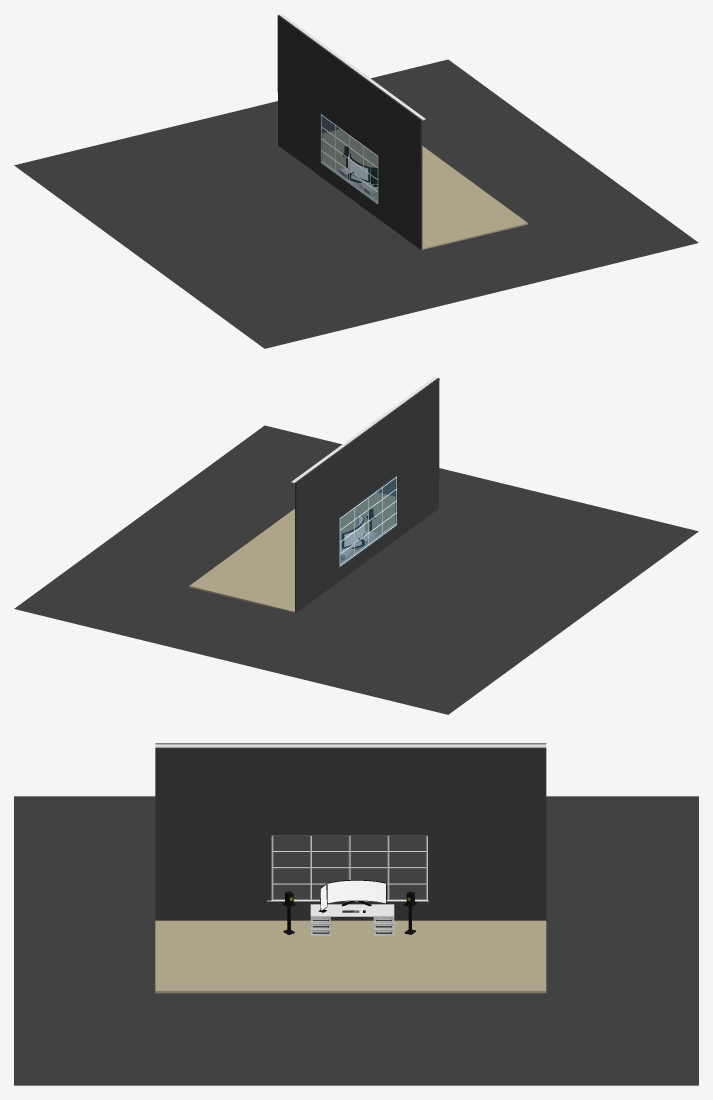
File: deskScene.glb
The picture shows the model from 3 angles, top to bottom: view 1: azimuth 30°, elevation 25°; view 2: azimuth 150°, elevation 25°; view 3: azimuth 270°, elevation 25°; orthographic projection. The views are drawn at different scales.
Visible parts, largest first — view 1: Plane.008, Plane.001, Plane.011, Plane.007, Plane.002; view 2: Plane.008, Plane.001, Plane.011, Plane.007, Plane.002; view 3: Plane.008, Plane.001, Plane.007, Plane.002, Cube.002, Plane, Plane.010.
Boxes of the visible parts, x1,y1,x2,y2 form: Plane.008: (14, 59, 698, 348); Plane.001: (277, 15, 527, 249); Plane.011: (320, 112, 377, 205); Plane.007: (321, 114, 378, 203); Plane.002: (279, 14, 425, 120); Plane.008: (14, 425, 698, 714); Plane.001: (189, 378, 439, 612); Plane.011: (339, 475, 396, 568); Plane.007: (339, 476, 396, 566); Plane.002: (291, 377, 437, 483); Plane.008: (14, 796, 698, 1085); Plane.001: (155, 743, 546, 993); Plane.007: (271, 835, 427, 899); Plane.002: (155, 744, 546, 747); Cube.002: (327, 880, 386, 906); Plane: (310, 904, 394, 916); Plane.010: (310, 917, 394, 935).
Size of the model in its own units: 28.16 by 8.69 by 28.16.
15 materials, 1 textured.
